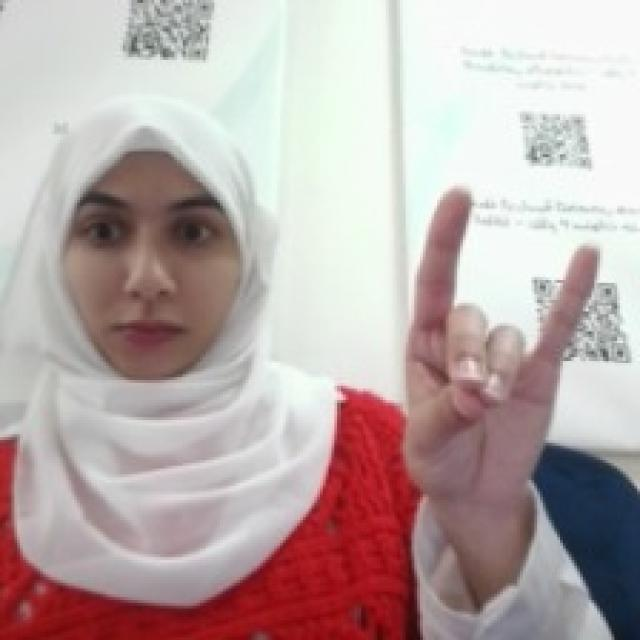Dog: (394, 177, 603, 503)
